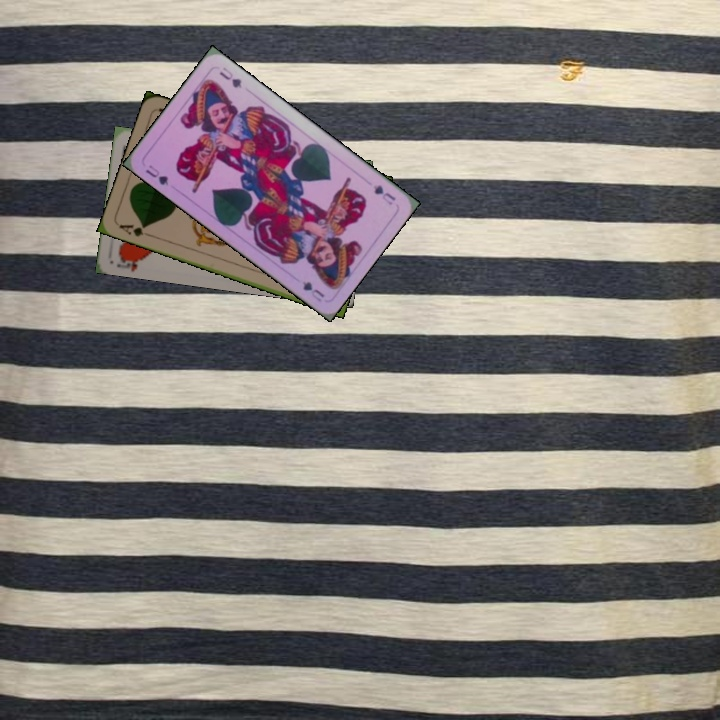GA: (115, 220, 155, 240)
GU: (369, 180, 398, 208), (141, 161, 171, 188)
HO: (113, 251, 146, 273)
